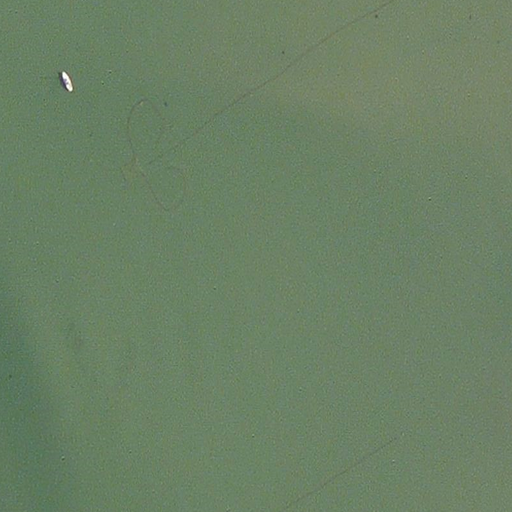ship: (59, 71, 75, 92)
